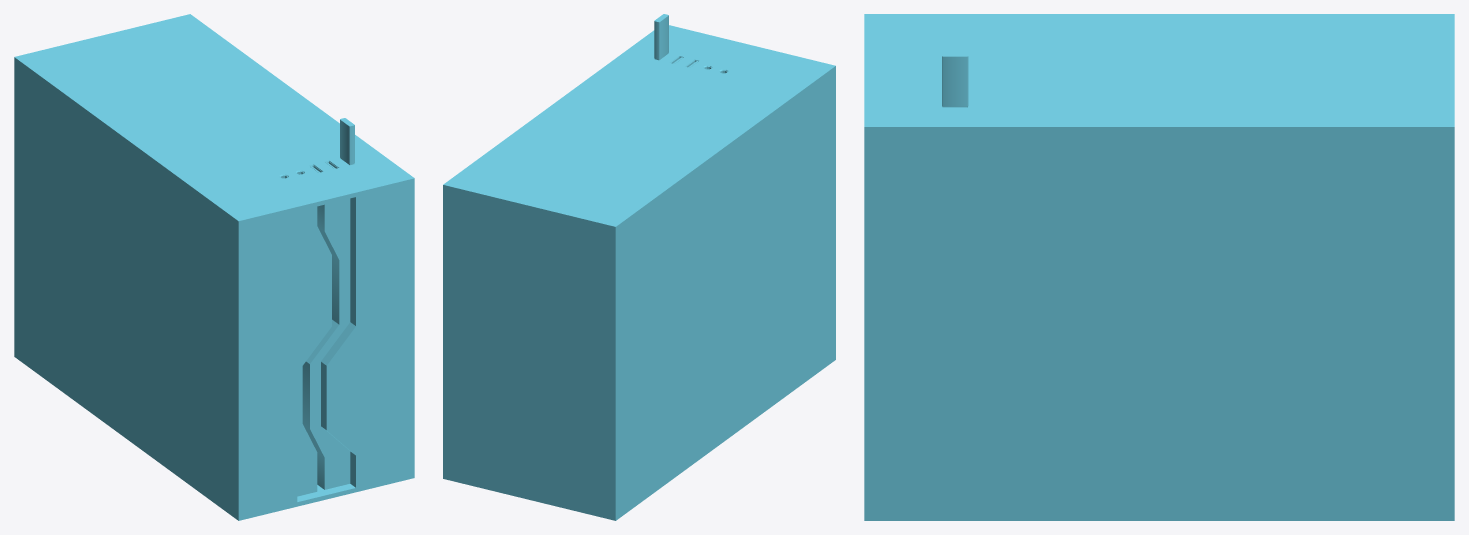
3 renders of one model, left to right at view 1: azimuth 30°, elevation 25°; view 2: azimuth 150°, elevation 25°; view 3: azimuth 270°, elevation 25°, orthographic. The views are drawn at different scales.
Visible parts, largest first — view 1: PC; view 2: PC; view 3: PC.
Part boxes in pixels (box(x1,y1,x2,y2)): PC: box(14, 14, 414, 520); PC: box(443, 14, 835, 520); PC: box(864, 14, 1454, 520).
Size of the model in its own units: 18.14 by 33.33 by 40.04.
